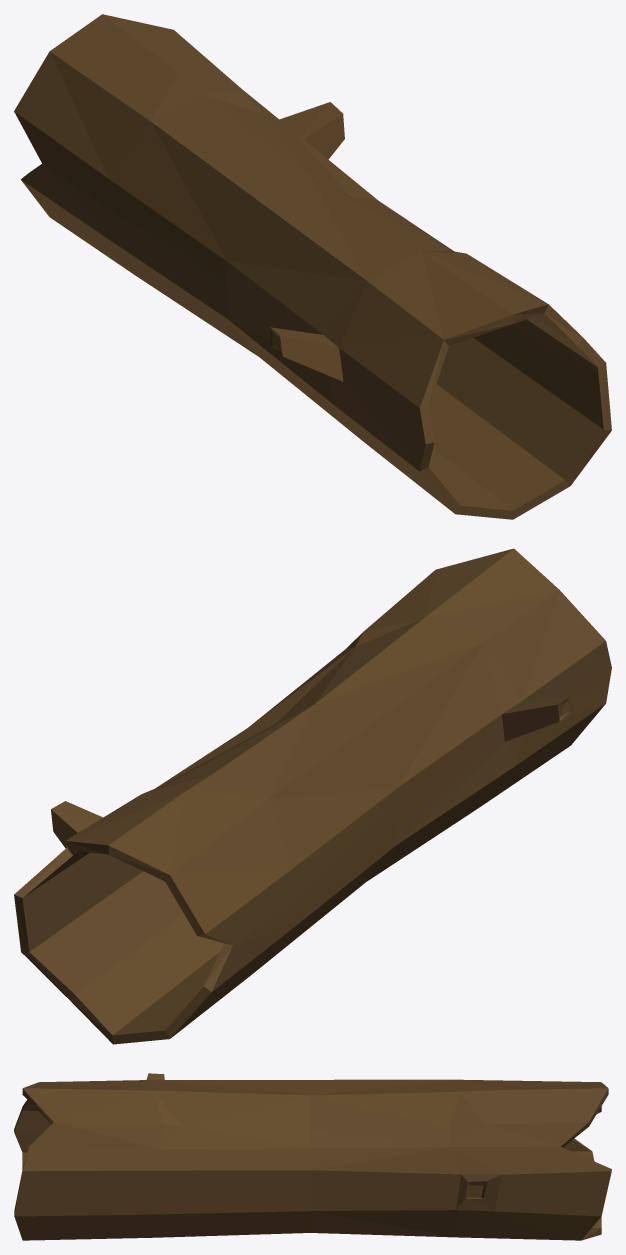
Rendered from Stump_05.fbx.
The picture shows the model from 3 angles, top to bottom: view 1: azimuth 30°, elevation 25°; view 2: azimuth 150°, elevation 25°; view 3: azimuth 270°, elevation 25°; orthographic projection. The views are drawn at different scales.
Parts seen in each view (by area): view 1: Stump_05; view 2: Stump_05; view 3: Stump_05.
Part boxes in pixels (bbox=[...]): Stump_05: bbox=[14, 14, 611, 519]; Stump_05: bbox=[14, 548, 611, 1044]; Stump_05: bbox=[14, 1073, 611, 1240].
Bounding box in the file's own units: 80.66 × 54.86 × 203.
